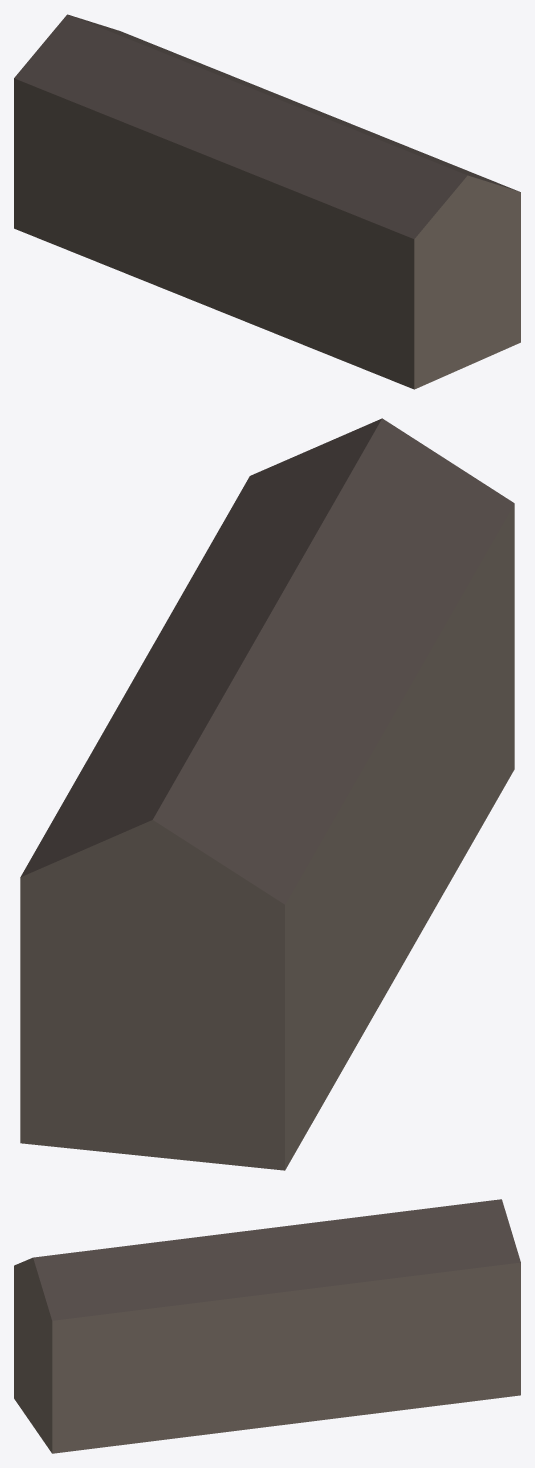
3 views of the same model, one above another, from view 1: azimuth 30°, elevation 25°; view 2: azimuth 150°, elevation 25°; view 3: azimuth 270°, elevation 25° (orthographic). The views are drawn at different scales.
Visible parts, largest first — view 1: HP-w1198020611; view 2: HP-w1198020611; view 3: HP-w1198020611.
Part boxes in pixels (<box>): HP-w1198020611: <box>14,14,520,389</box>; HP-w1198020611: <box>20,418,514,1170</box>; HP-w1198020611: <box>14,1199,520,1453</box>.
Bounding box in the file's own units: 11.01 × 7.61 × 20.74.
